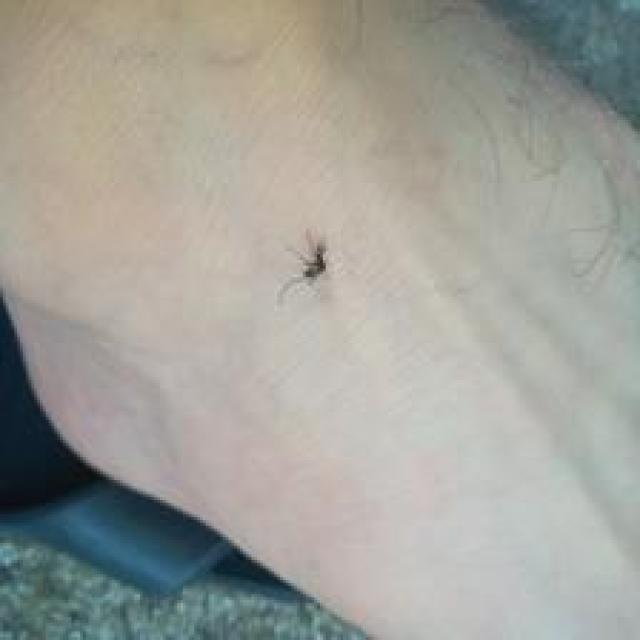Aedes albopictus: (276, 226, 333, 306)
